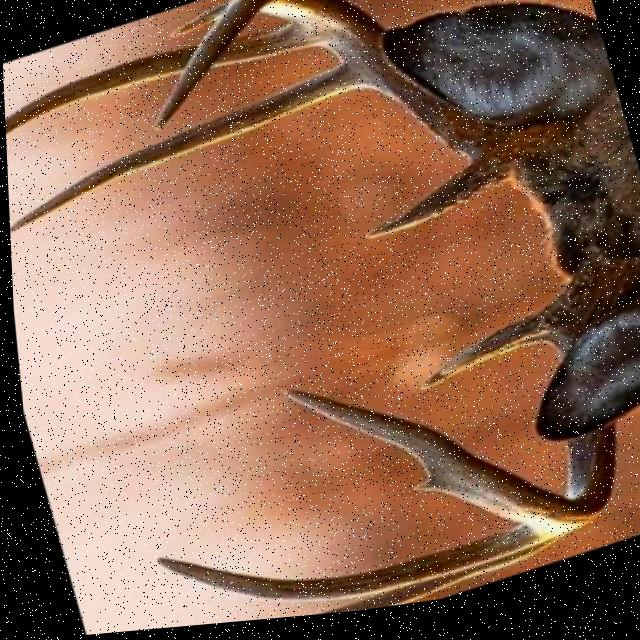L-G1: (410, 308, 550, 400)
L-G2: (148, 535, 543, 608)
R-F: (149, 0, 567, 190)
R-G1: (356, 172, 506, 249)
R-G2: (8, 69, 363, 233)
R-G4: (162, 0, 235, 43)
